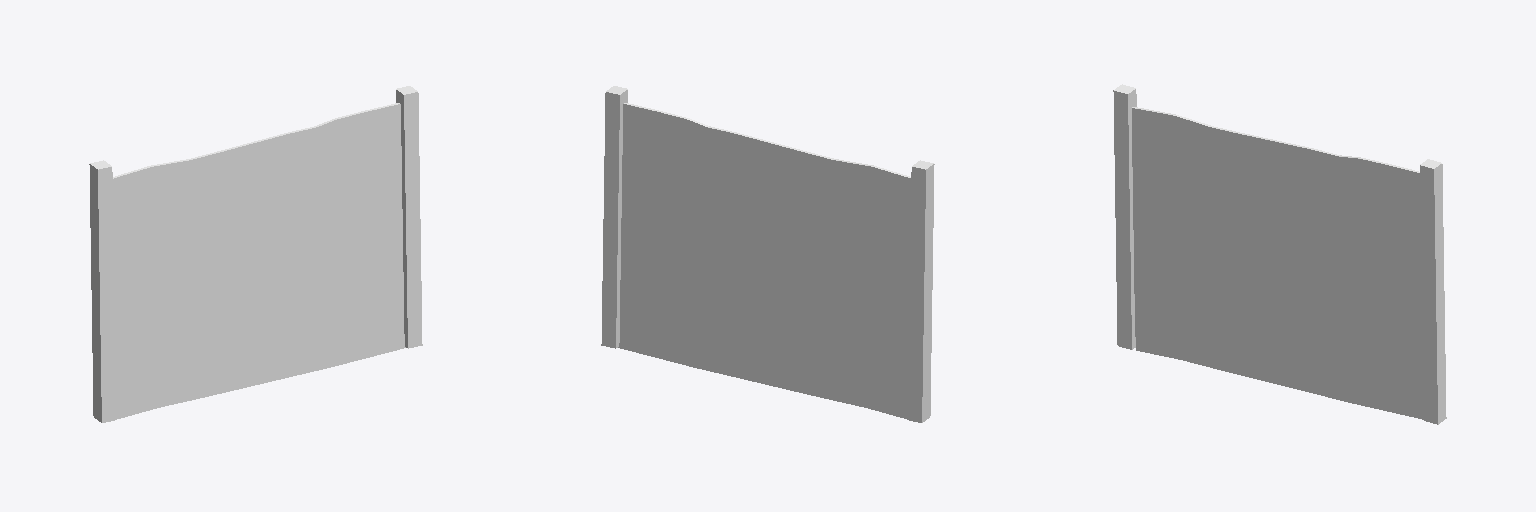
Rendered from wornfence.obj.
The picture shows the model from 3 angles: view 1: azimuth 30°, elevation 25°; view 2: azimuth 150°, elevation 25°; view 3: azimuth 330°, elevation 25°; orthographic projection.
Parts seen in each view (by area): view 1: def_surf_mat; view 2: def_surf_mat; view 3: def_surf_mat.
Boxes of the visible parts, <box> form: def_surf_mat: <box>89,86,422,422</box>; def_surf_mat: <box>601,86,934,422</box>; def_surf_mat: <box>1113,84,1446,424</box>.
Size of the model in its own units: 146 by 111 by 6.55.